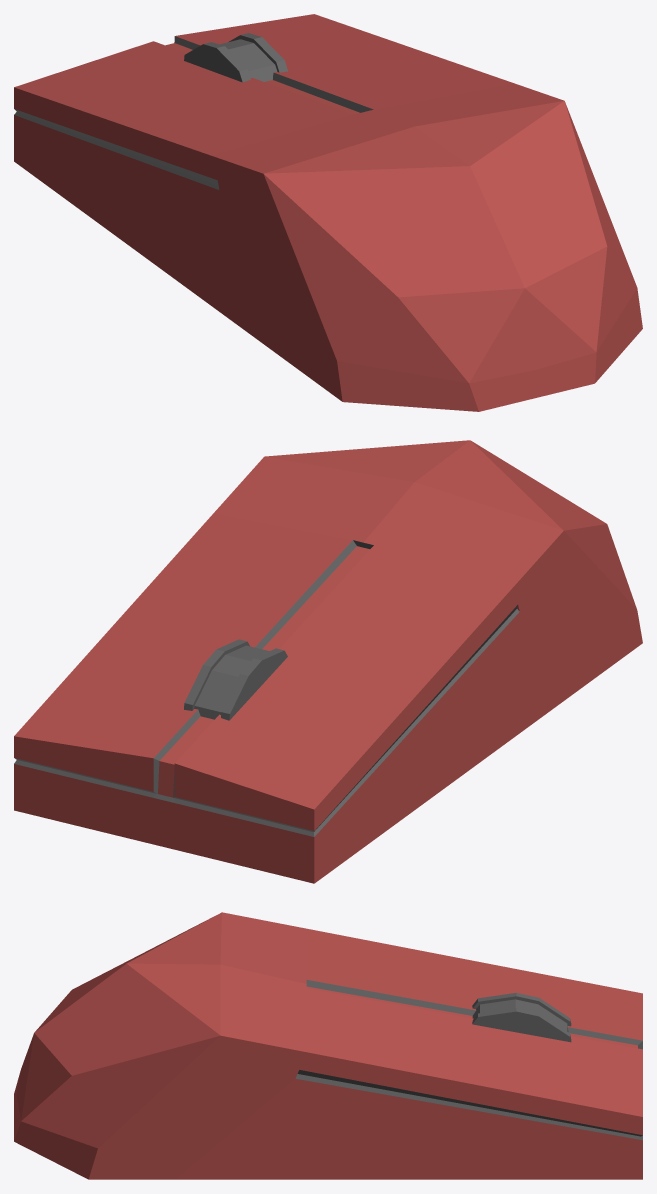
Rendered from MouseV2Red.fbx.
3 renders of one model, top to bottom at view 1: azimuth 30°, elevation 25°; view 2: azimuth 150°, elevation 25°; view 3: azimuth 270°, elevation 25°, orthographic. The views are drawn at different scales.
Visible parts, largest first — view 1: MouseV2Red; view 2: MouseV2Red; view 3: MouseV2Red.
Boxes of the visible parts, x1,y1,x2,y2 form: MouseV2Red: (14,14,642,411); MouseV2Red: (14,440,642,883); MouseV2Red: (14,912,642,1179).
Size of the model in its own units: 3.64 by 2.12 by 7.82.
